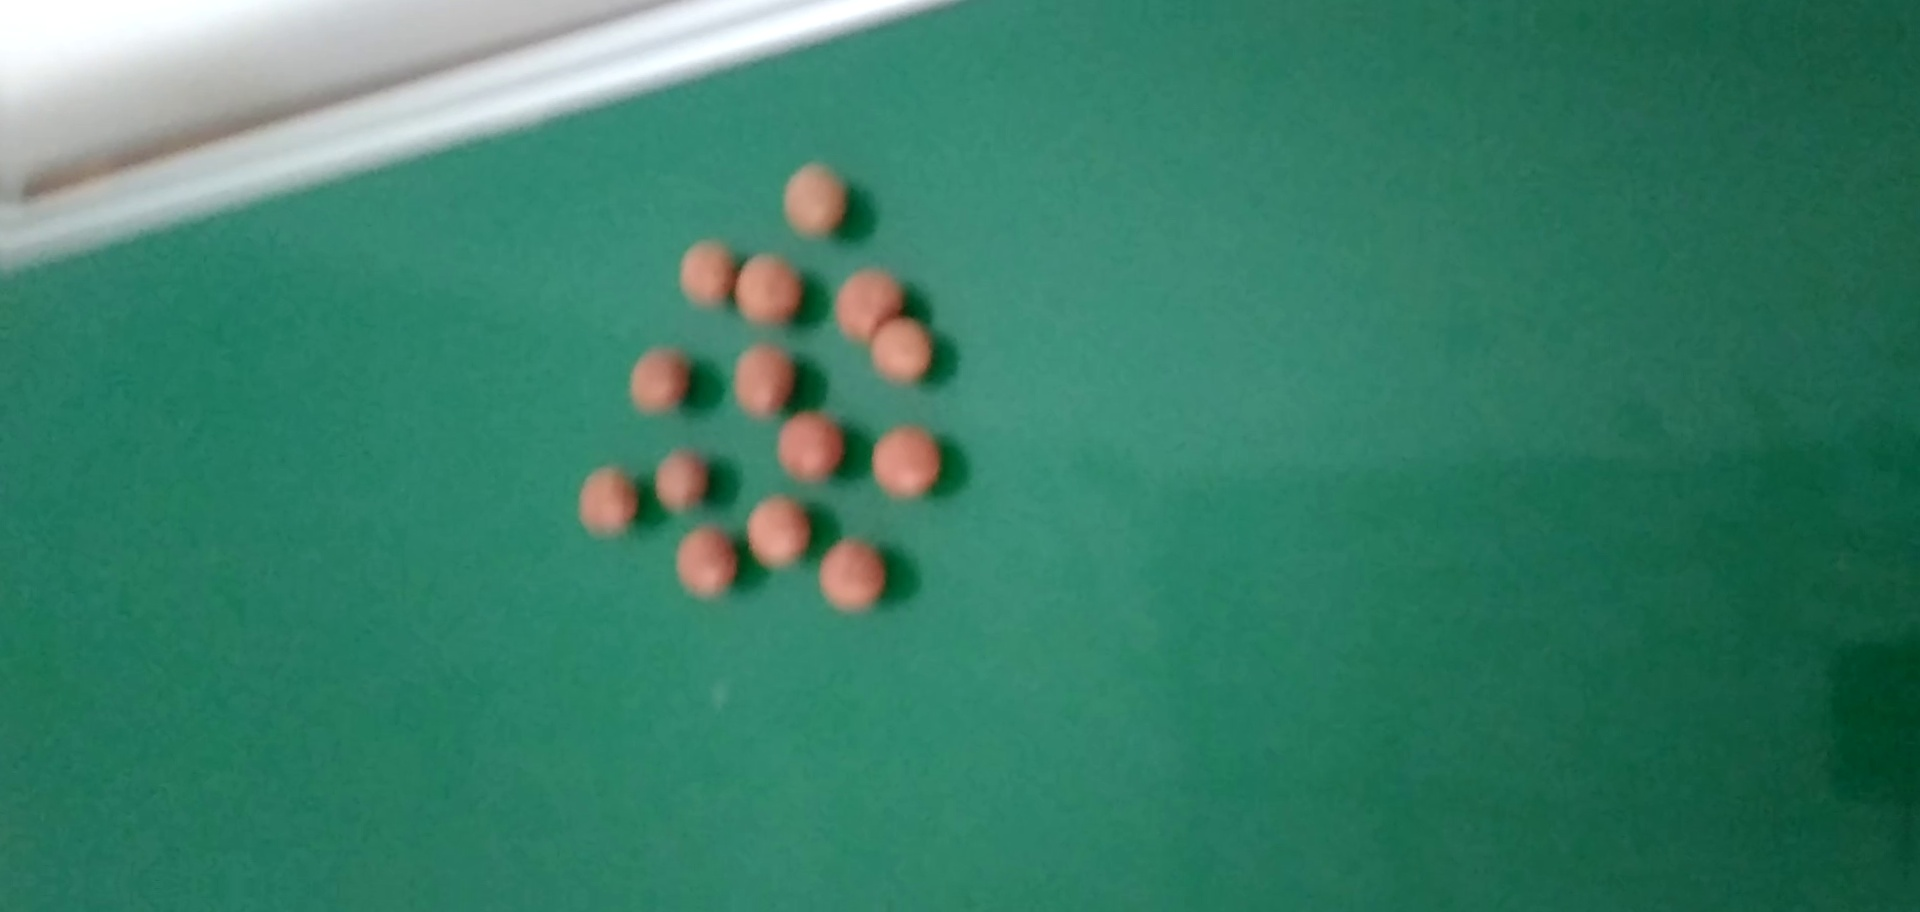mac: (776, 404, 845, 485), (873, 422, 938, 502), (731, 338, 796, 416), (743, 493, 809, 569), (576, 463, 639, 540), (736, 253, 802, 327), (782, 163, 849, 235), (671, 526, 735, 600), (835, 267, 901, 334), (822, 541, 885, 610), (676, 235, 733, 310), (629, 342, 687, 415), (872, 315, 928, 383), (654, 449, 709, 517)
